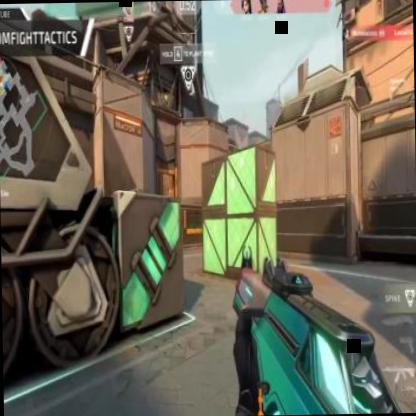enemy: (166, 186, 172, 200)
enemy_head: (167, 186, 170, 191)
